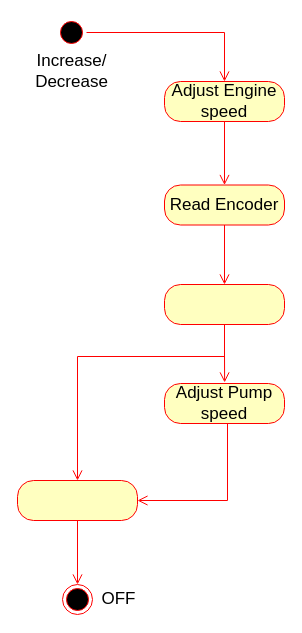
Image size: 302x633. Some labels were removed from this diagram. Each missing label, with the centre of its shape:
Computation: the point at 224,304
Update LCD: the point at 77,500
